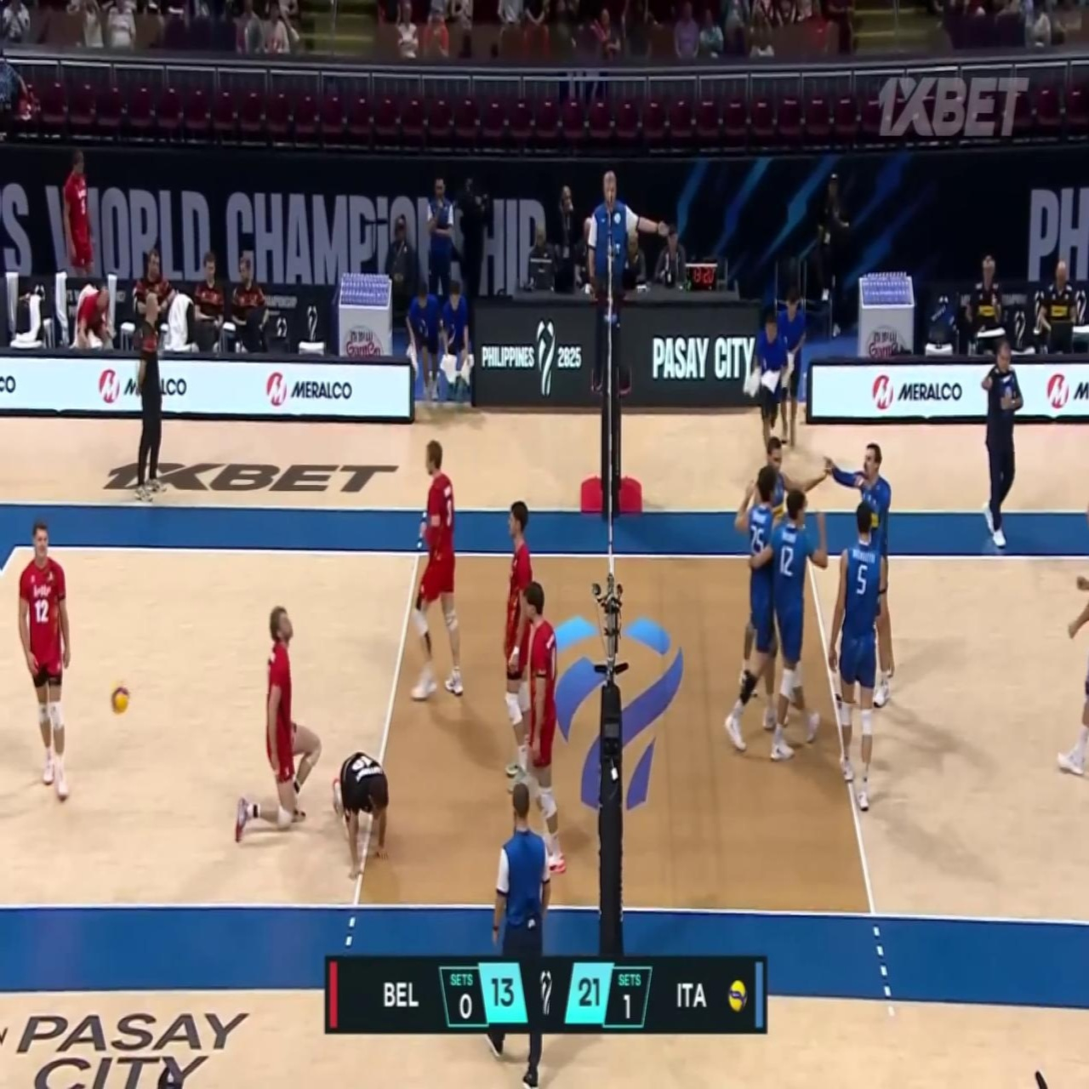ball: (109, 680, 129, 715)
